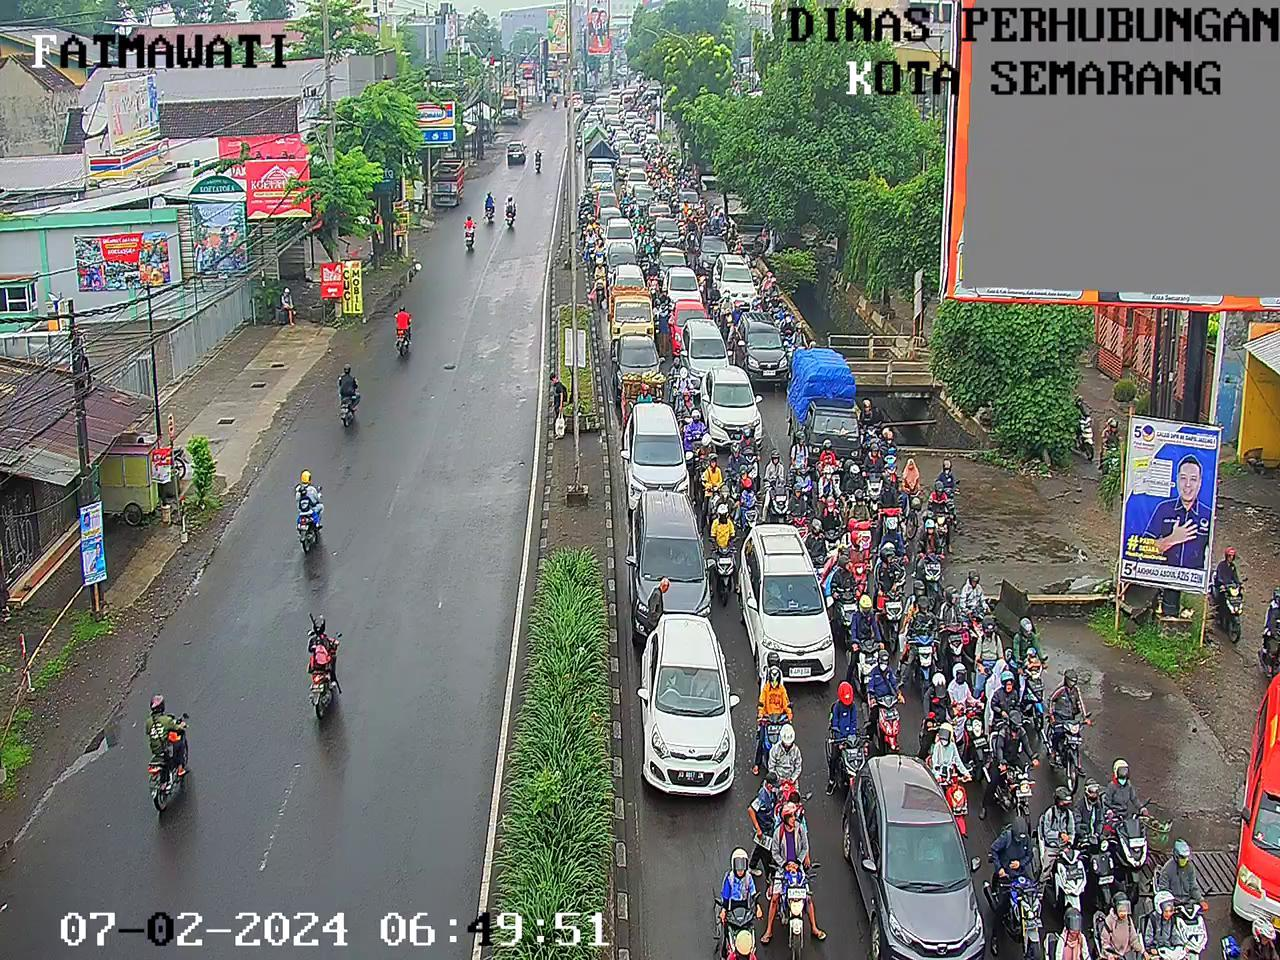car: (868, 769, 995, 960), (645, 618, 740, 798), (746, 527, 843, 688), (633, 490, 717, 623), (797, 341, 864, 453), (630, 405, 687, 524), (707, 369, 764, 457), (613, 331, 666, 409), (745, 314, 794, 386), (689, 321, 727, 390), (665, 270, 712, 322), (720, 256, 758, 317), (675, 305, 710, 362), (701, 229, 733, 280), (603, 244, 641, 283), (604, 216, 637, 256), (659, 242, 693, 277), (615, 260, 645, 295), (596, 189, 621, 225), (632, 170, 658, 202), (656, 218, 681, 250), (601, 209, 625, 242), (618, 146, 641, 181), (600, 98, 622, 124), (628, 167, 647, 196), (680, 191, 701, 216), (649, 204, 674, 224), (630, 157, 649, 181), (634, 120, 650, 147), (609, 91, 625, 117), (644, 134, 662, 157), (643, 91, 660, 114), (615, 132, 634, 152), (637, 126, 653, 146), (623, 89, 638, 109), (590, 104, 604, 125), (627, 112, 640, 132), (608, 118, 622, 136)
motorcycle: (771, 800, 834, 960), (1044, 782, 1102, 930), (707, 844, 771, 960), (987, 824, 1039, 960), (1112, 753, 1160, 899), (1164, 841, 1218, 958), (1085, 773, 1126, 924), (991, 709, 1042, 822), (930, 721, 974, 841), (706, 505, 751, 609), (948, 663, 991, 771), (872, 649, 911, 765), (855, 594, 894, 698), (958, 565, 996, 671), (910, 595, 949, 695), (760, 665, 794, 777), (1059, 662, 1089, 794), (923, 667, 952, 775), (830, 683, 861, 787), (833, 553, 866, 644), (1017, 613, 1046, 711), (939, 458, 974, 539), (771, 726, 802, 810), (788, 433, 819, 515), (848, 485, 877, 573), (1102, 895, 1139, 960), (767, 447, 796, 528), (876, 542, 911, 607), (991, 658, 1019, 739), (703, 451, 734, 523), (924, 516, 953, 590), (1150, 895, 1182, 960), (813, 465, 848, 524), (738, 424, 764, 497), (977, 613, 999, 698), (1235, 919, 1280, 960), (945, 585, 967, 669), (878, 426, 901, 501), (929, 480, 957, 541), (688, 410, 714, 476), (738, 478, 762, 535), (1055, 909, 1081, 960), (630, 374, 660, 414), (861, 398, 882, 448), (821, 497, 843, 547), (806, 515, 826, 567), (867, 441, 884, 498), (823, 442, 845, 487), (677, 367, 694, 421), (592, 265, 610, 311), (669, 359, 685, 408), (712, 206, 734, 240), (652, 299, 669, 342), (778, 312, 797, 349), (847, 460, 866, 497), (791, 325, 808, 358), (722, 289, 735, 332), (768, 273, 781, 309), (585, 230, 598, 263), (650, 260, 661, 298), (751, 259, 764, 290), (688, 218, 699, 253), (588, 216, 600, 245), (596, 232, 607, 258), (734, 238, 747, 259), (581, 210, 589, 243), (753, 299, 762, 325), (697, 272, 708, 294), (623, 193, 631, 217), (679, 218, 687, 242), (581, 201, 591, 218), (631, 222, 642, 236), (633, 204, 641, 223), (681, 251, 691, 266), (683, 199, 690, 220), (639, 223, 647, 241), (700, 215, 708, 235), (672, 188, 679, 207), (672, 164, 680, 178), (647, 244, 655, 258), (642, 247, 648, 264), (588, 193, 595, 207), (642, 258, 648, 274), (647, 228, 652, 246), (676, 182, 683, 194), (582, 190, 589, 202), (661, 196, 671, 204), (669, 153, 677, 163), (669, 177, 675, 190), (682, 181, 690, 190), (661, 177, 668, 188), (639, 238, 646, 248), (642, 216, 649, 226), (653, 168, 660, 176), (655, 165, 663, 172), (681, 169, 686, 181), (664, 167, 670, 176), (654, 179, 661, 187), (651, 156, 658, 163), (659, 168, 664, 177), (651, 149, 658, 155), (661, 152, 668, 158), (677, 177, 683, 185), (687, 176, 693, 184), (657, 188, 662, 196), (659, 156, 663, 165), (664, 159, 670, 165), (664, 188, 668, 195)
truck: (590, 139, 619, 193), (583, 122, 613, 172)
